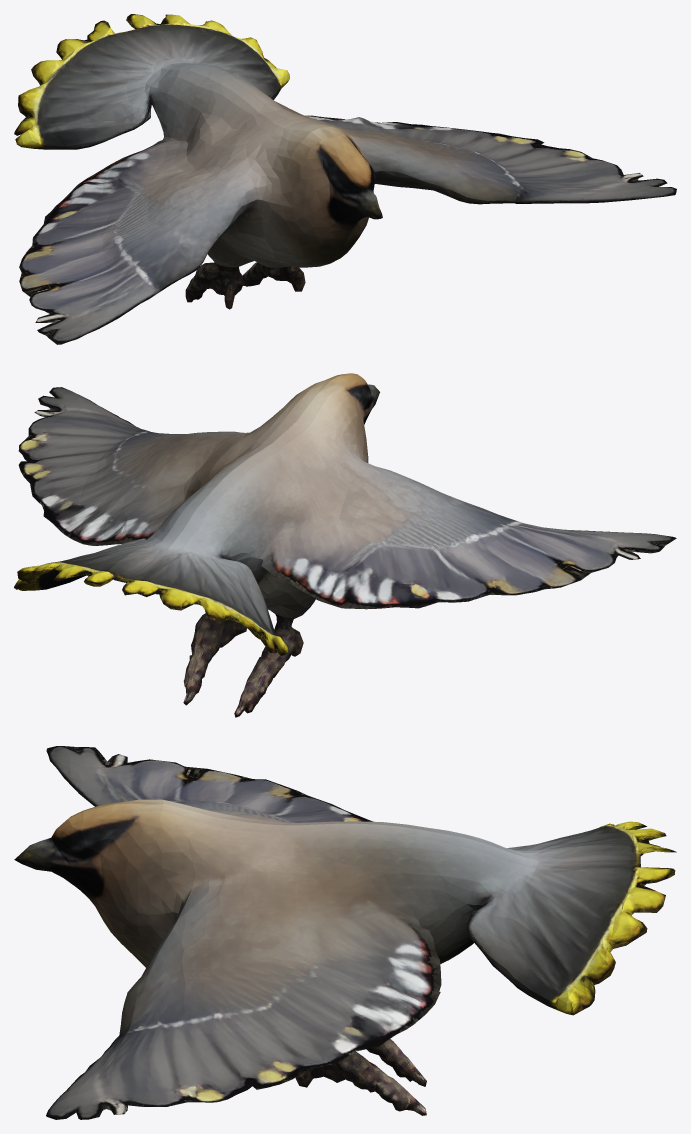
Rendered from CedarWaxwing_NoAnimation.glb.
3 renders of one model, top to bottom at view 1: azimuth 30°, elevation 25°; view 2: azimuth 150°, elevation 25°; view 3: azimuth 270°, elevation 25°, orthographic. The views are drawn at different scales.
Visible parts, largest first — view 1: world; view 2: world; view 3: world.
Part boxes in pixels (left/top/right/bottom): world: left=14, top=14, right=676, bottom=344; world: left=14, top=373, right=676, bottom=717; world: left=14, top=746, right=676, bottom=1119.
Size of the model in its own units: 1 by 0.3738 by 0.7541.
1 material, 1 textured.
